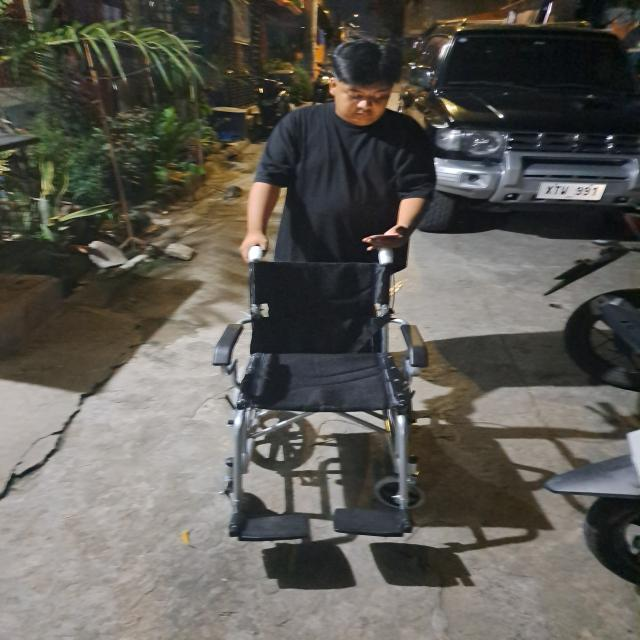wheelchairs: (218, 238, 429, 555)
